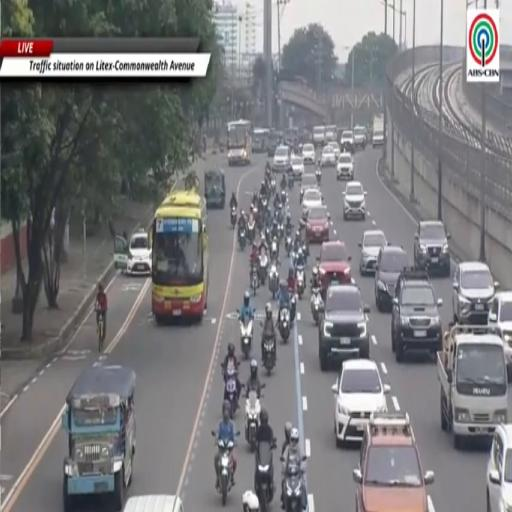bus: (152, 190, 208, 324), (227, 120, 252, 166), (252, 128, 270, 153)
car: (353, 411, 434, 511), (332, 359, 390, 445), (391, 270, 442, 362), (319, 284, 369, 371), (453, 262, 499, 324), (375, 246, 409, 311), (486, 424, 511, 511), (414, 220, 450, 276), (319, 240, 351, 296), (489, 292, 511, 367), (359, 231, 387, 275), (126, 229, 152, 275), (123, 494, 184, 511), (306, 205, 330, 243), (343, 182, 366, 219), (300, 173, 319, 202), (302, 189, 323, 212), (272, 146, 290, 172), (337, 153, 353, 180), (291, 155, 304, 180), (321, 146, 336, 167), (340, 131, 354, 153), (354, 126, 367, 149), (302, 143, 315, 165), (329, 141, 340, 159)
jeepney: (62, 366, 136, 511), (204, 169, 226, 209)
motorcycle: (212, 431, 234, 506), (255, 440, 275, 511), (285, 457, 306, 511), (245, 391, 260, 452), (224, 367, 238, 419), (240, 319, 253, 359), (263, 336, 275, 375), (311, 287, 323, 325), (268, 264, 279, 299), (279, 308, 290, 343), (296, 266, 305, 299), (259, 253, 268, 285), (238, 226, 247, 251), (251, 264, 258, 296), (247, 220, 255, 243), (270, 240, 278, 262), (291, 293, 296, 325), (285, 235, 292, 257), (303, 240, 309, 261), (231, 207, 236, 229), (265, 227, 271, 245), (278, 223, 284, 239), (288, 175, 294, 189), (261, 198, 267, 212), (270, 178, 275, 194), (316, 169, 321, 185), (300, 189, 304, 204)
truck: (437, 325, 510, 449), (372, 115, 384, 147), (312, 125, 326, 148), (325, 125, 337, 142)
